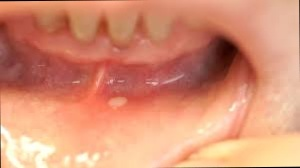Ulcer: (106, 92, 132, 111)
